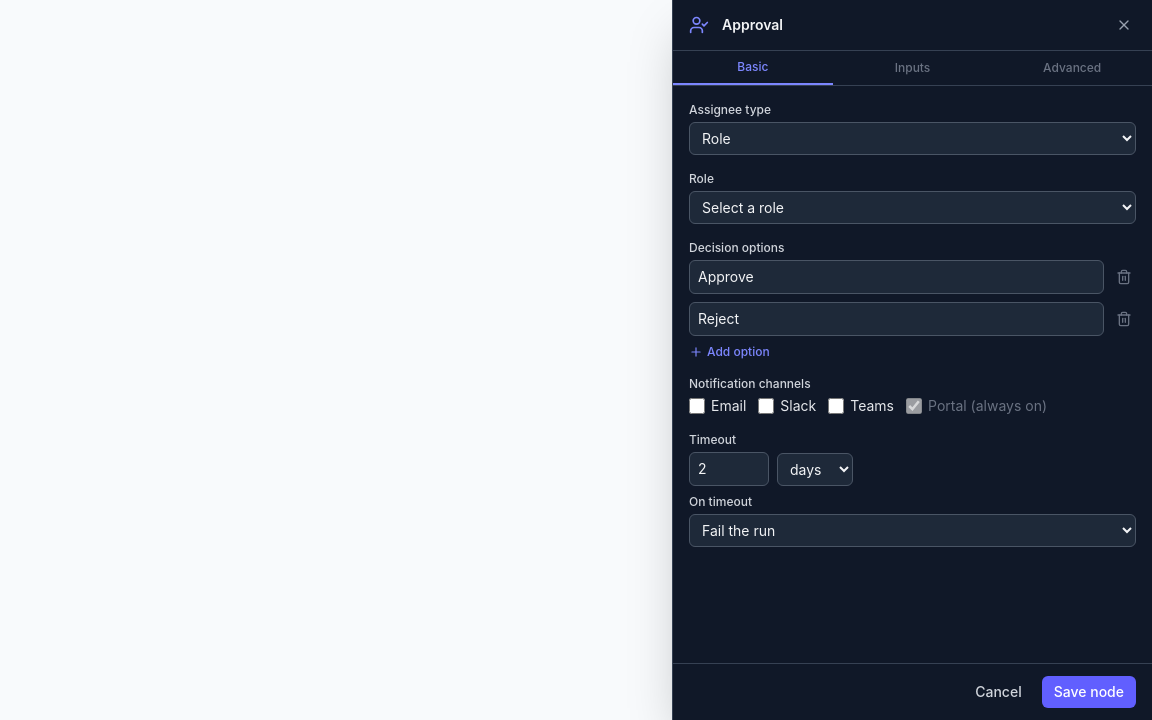
Test: NodeConfigPanel › human-gate assignee type change renders the matching field
// First select on the human-gate Basic tab is the assignee type.
Select "variable" in the dropdown below "Assignee type": [912, 138] box top-left (689, 122), bottom-right (1136, 155)
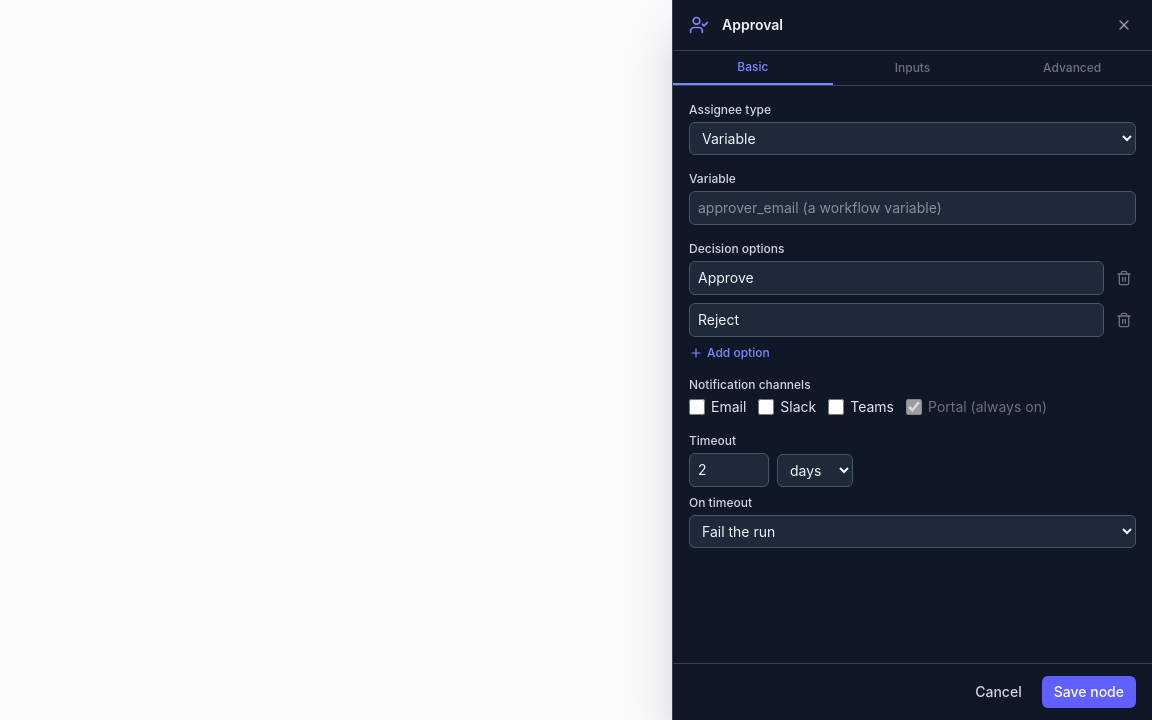
expect the field with placeholder "approver_email (a workflow variable)" is shown: met, box top-left (689, 191), bottom-right (1136, 225)
